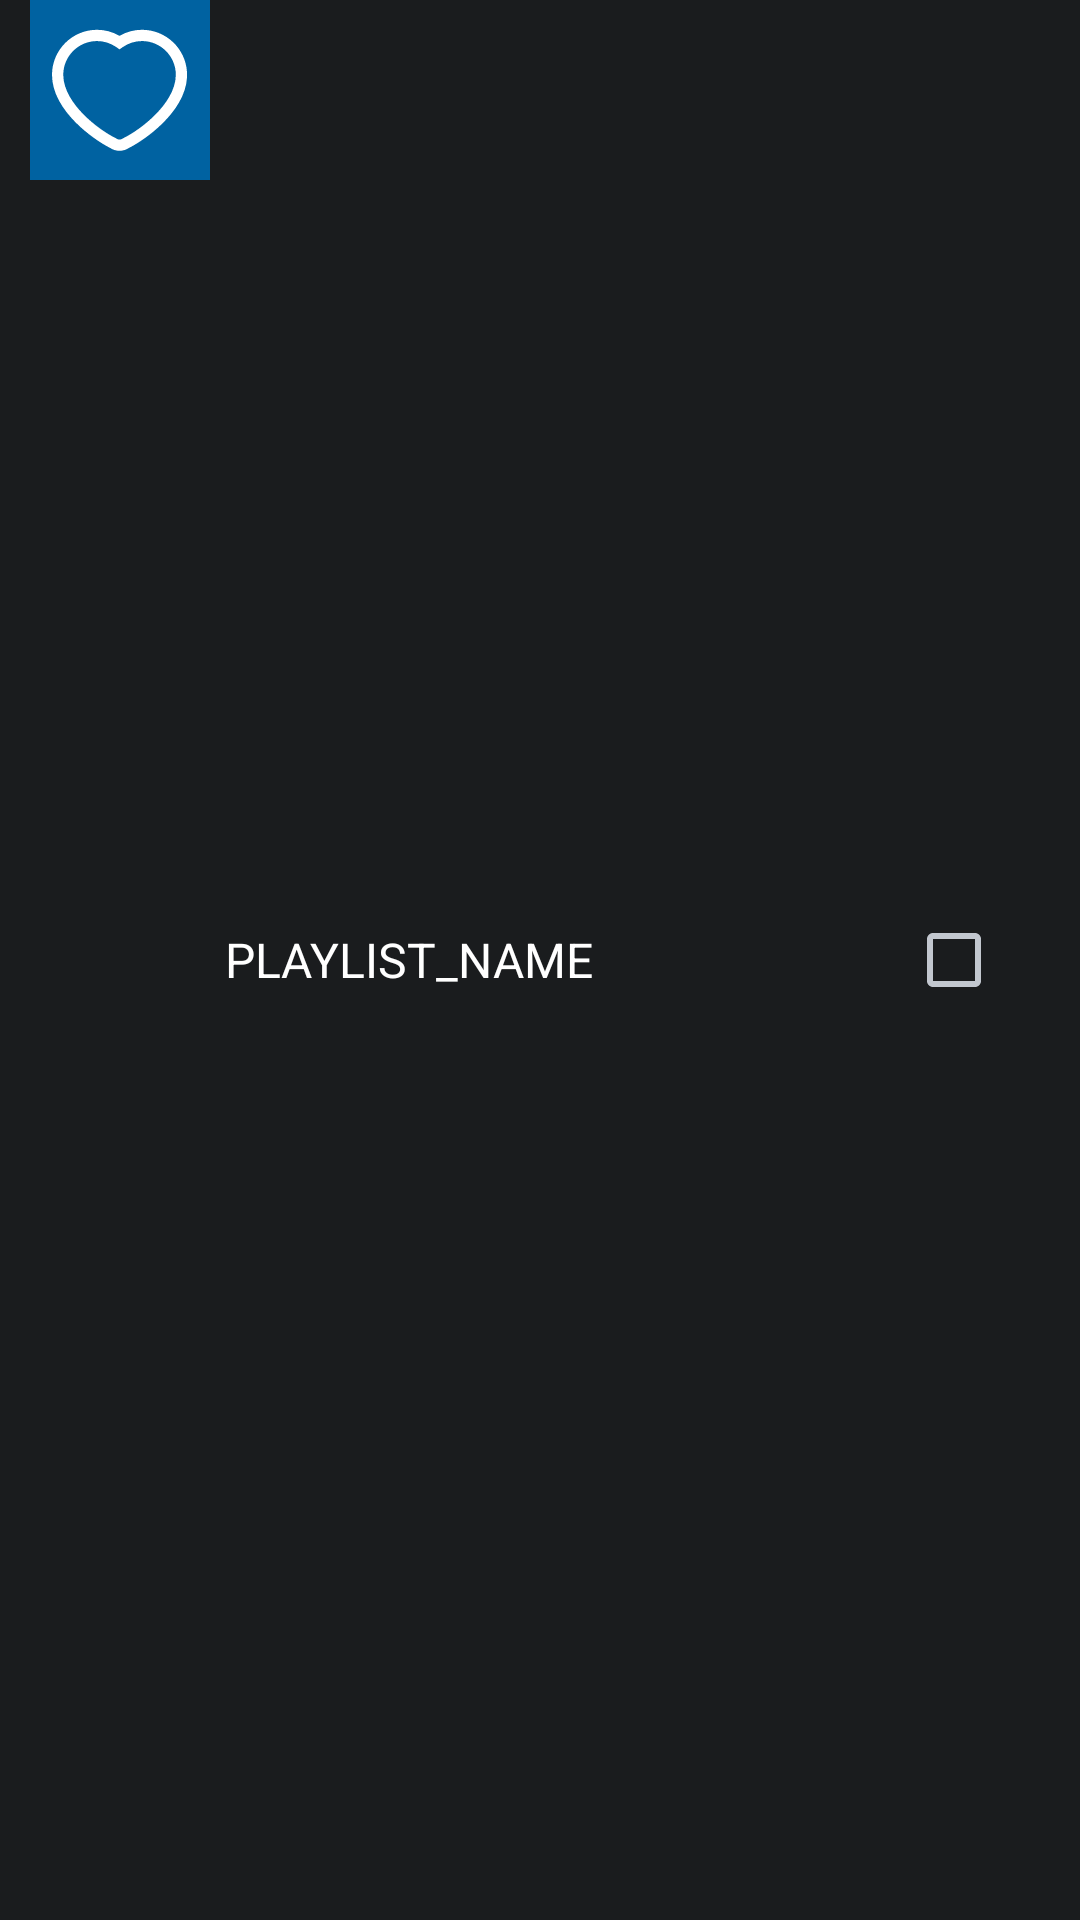

Icons on this 1080w x 1920h Android screen, each with its box as (x1, y1, x2, y2):
like playlist: (30, 0, 210, 180)
